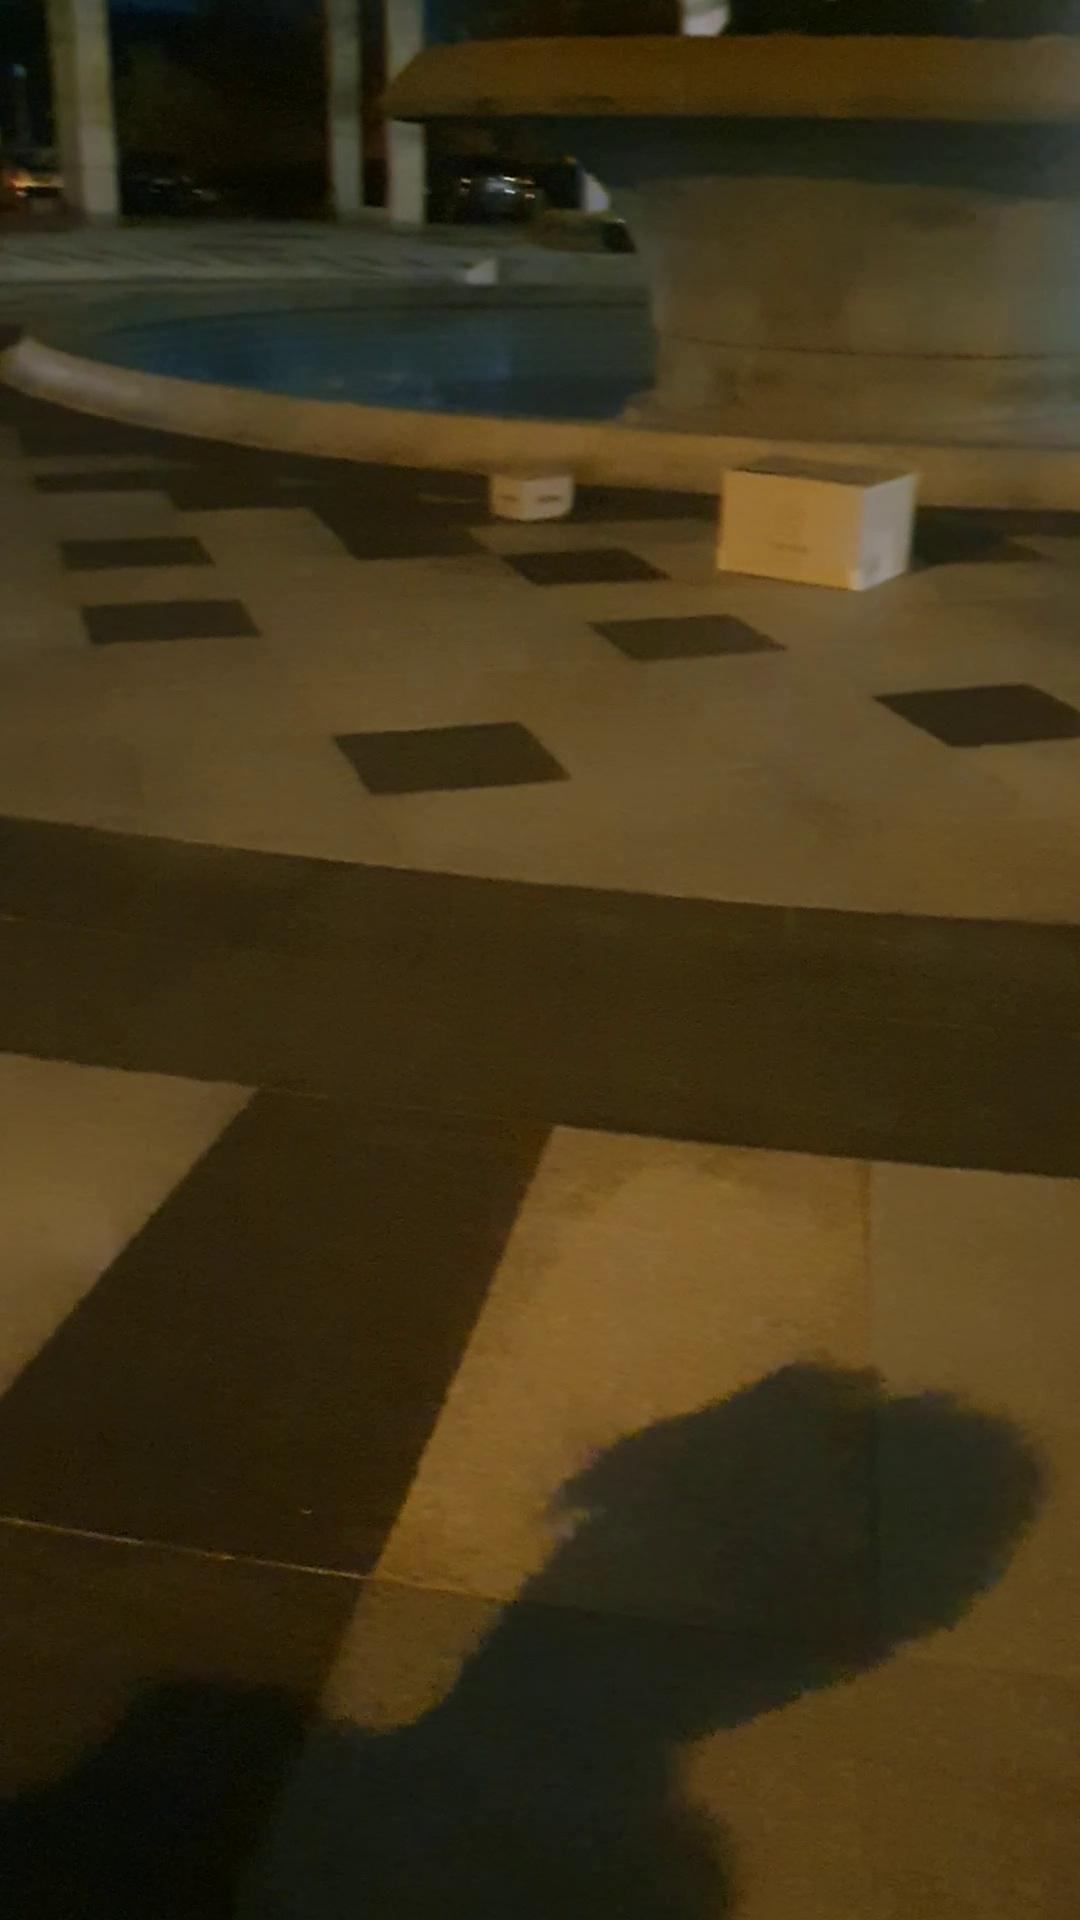Box: (716, 448, 927, 600), (488, 448, 578, 530)
